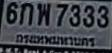3: (68, 3, 80, 26), (82, 4, 94, 27), (96, 5, 108, 27)
6: (6, 1, 17, 23)
7: (56, 3, 67, 26)
A01: (19, 2, 33, 25)
A30: (37, 2, 50, 25)
BKK: (14, 32, 98, 49)
